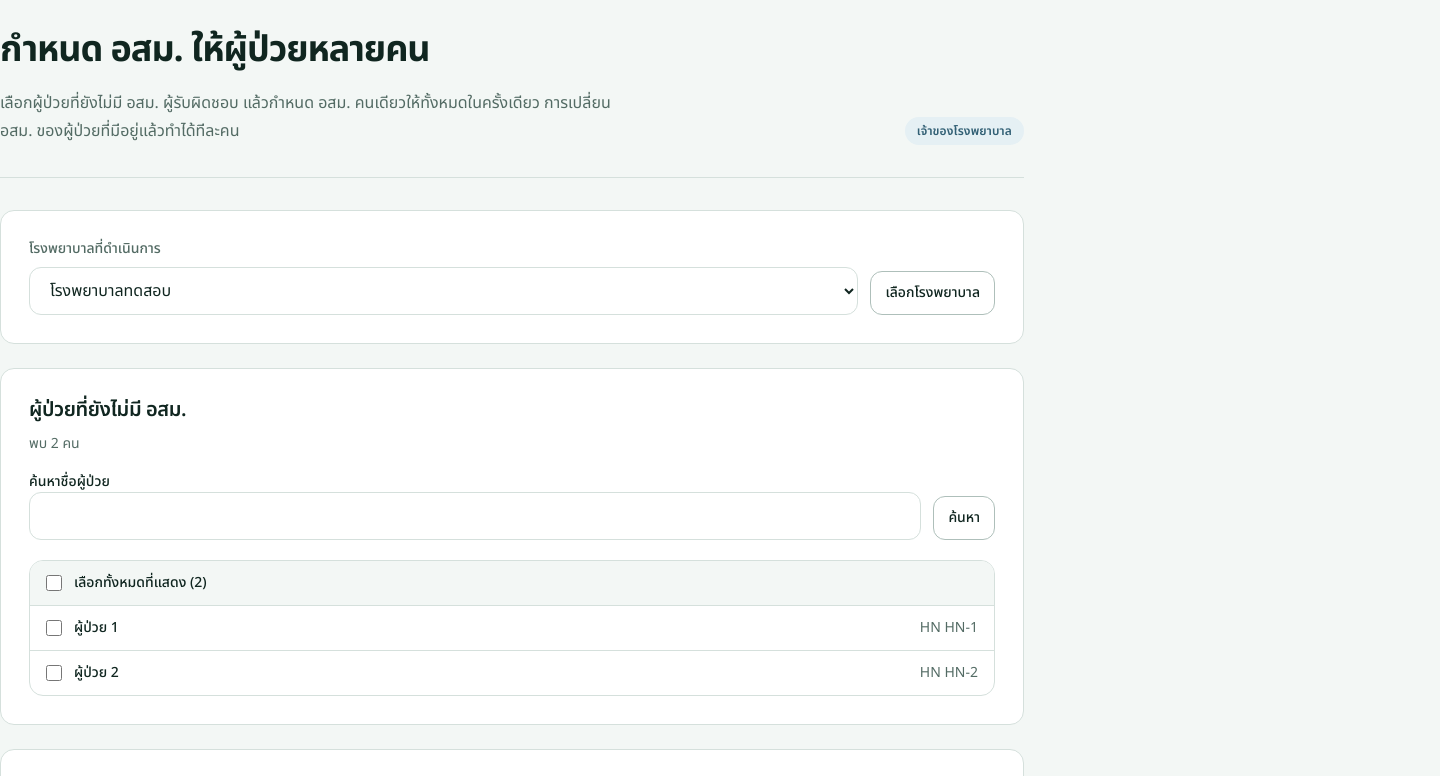
Test: bulk OSM assignment feedback › gives no new success Toast for a confirmed REPLAYED result and explains it inline
Click the checkbox labelled "ผู้ป่วย 1 HN HN-1" at [54, 628], box [46, 620, 62, 636]
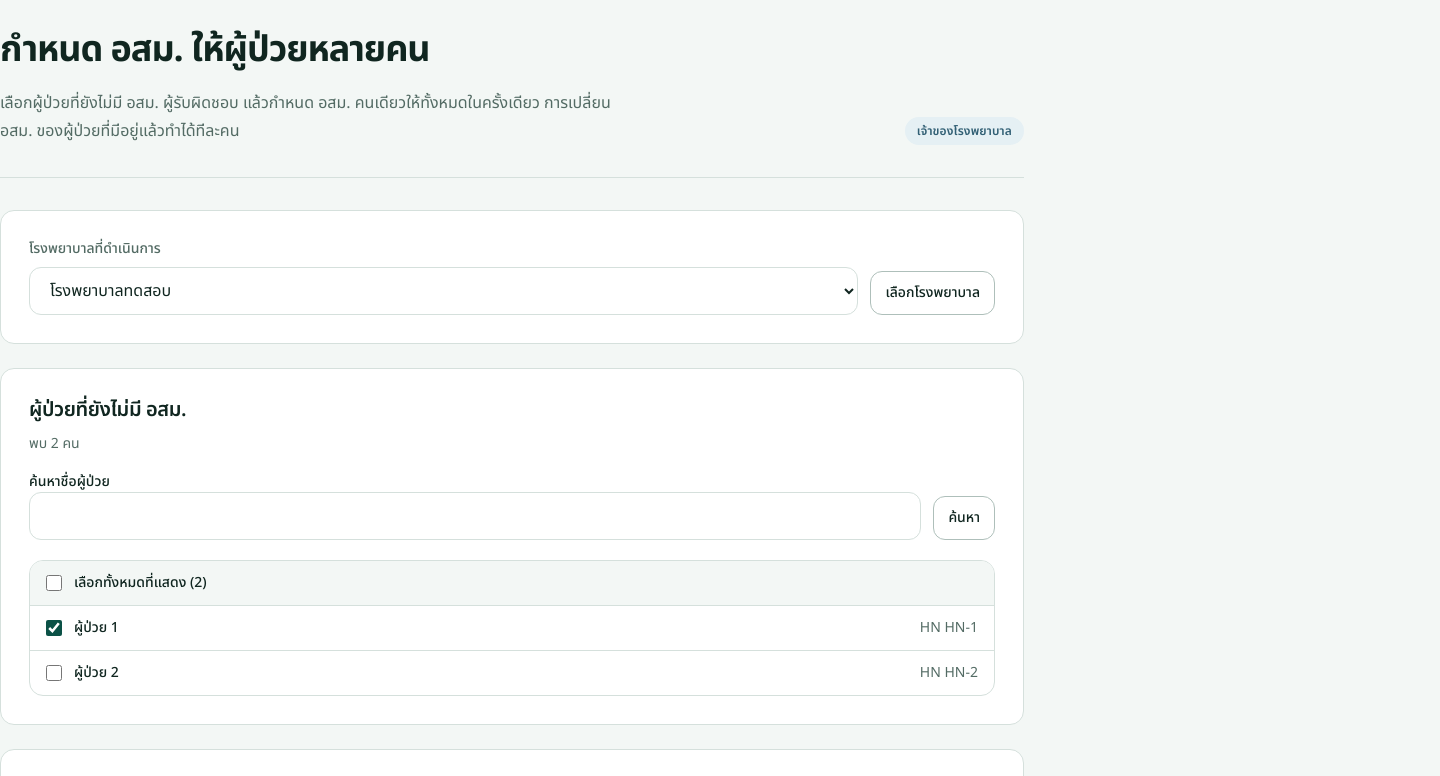
Click the checkbox labelled "ผู้ป่วย 2 HN HN-2" at [54, 673], box [46, 665, 62, 681]
(page scrolled)
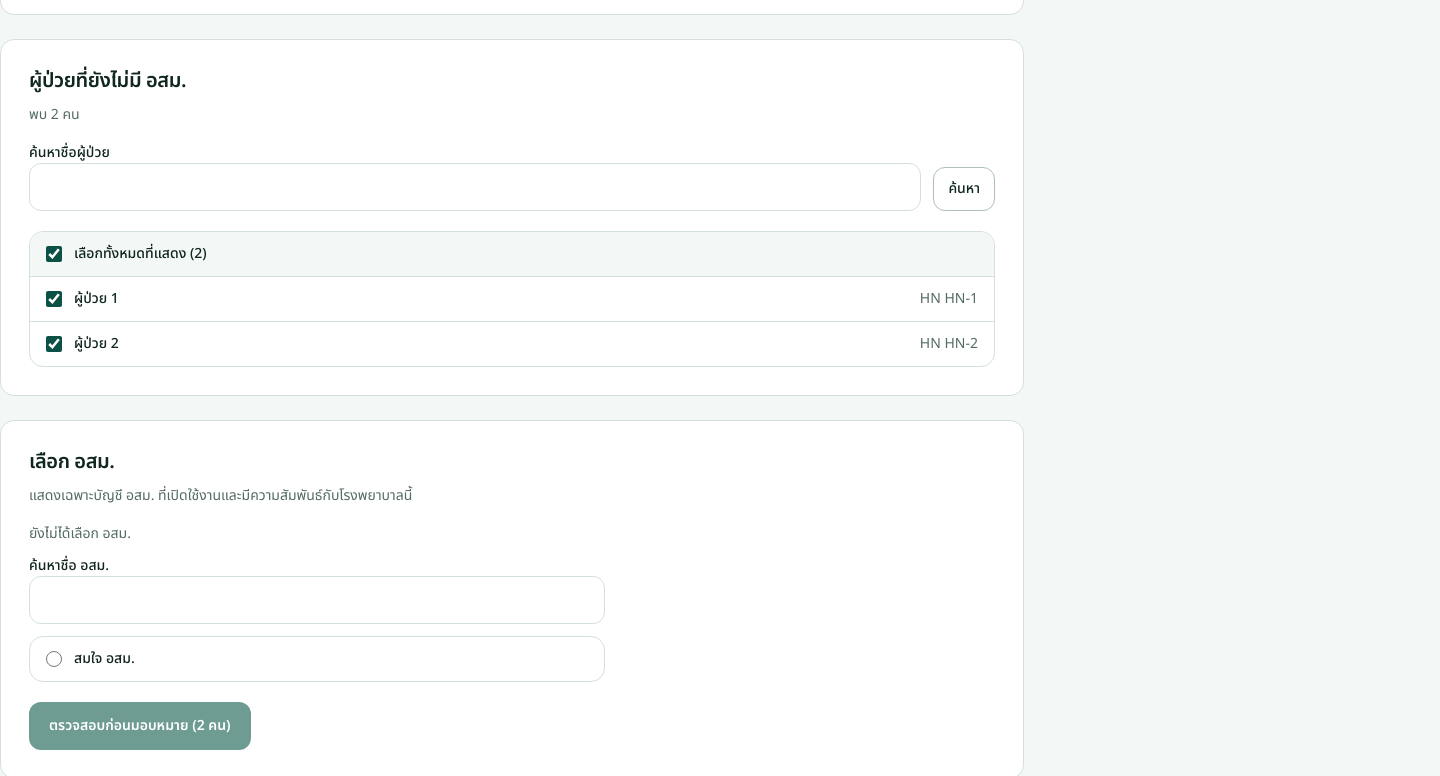
Click the radio button named "osm-candidate" at [54, 659], box [46, 651, 62, 667]
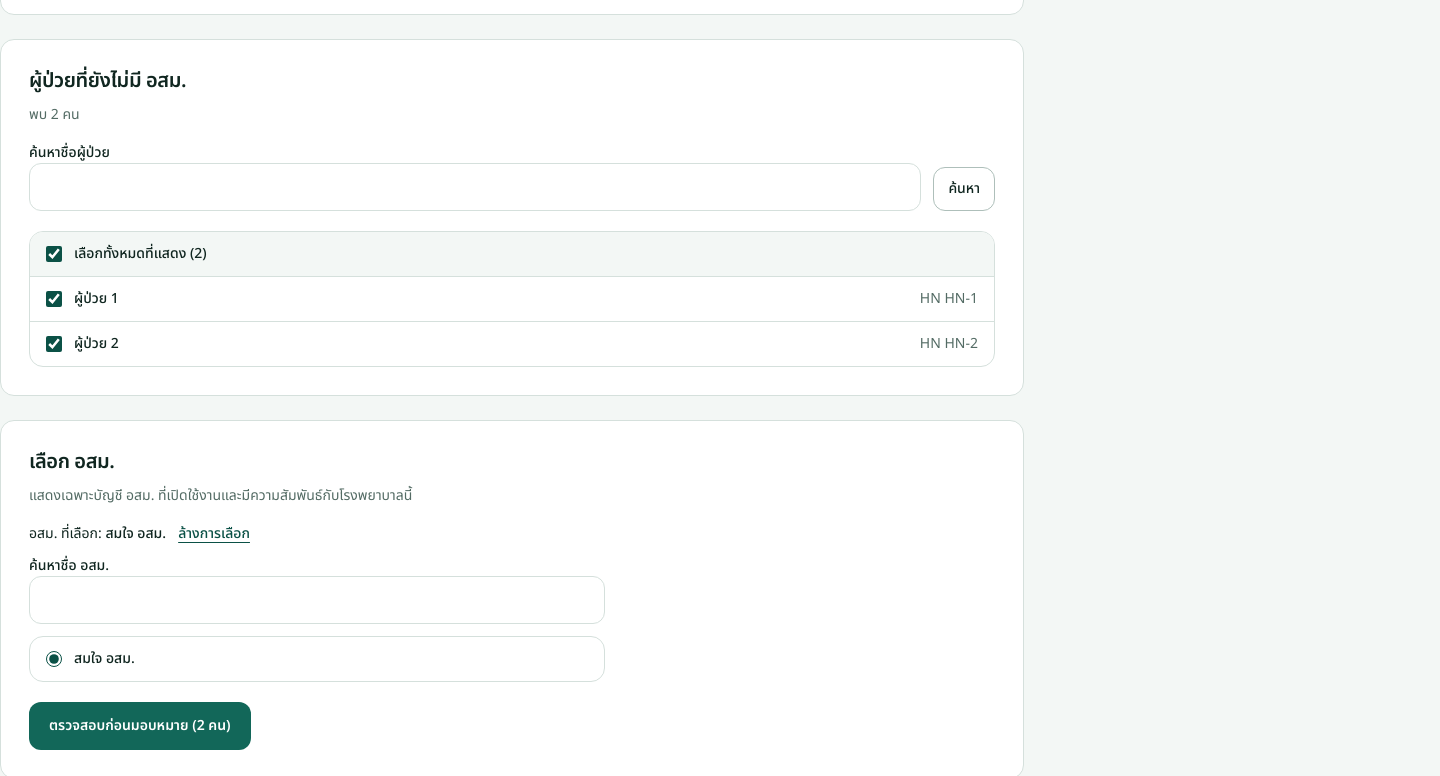
Click the button "ตรวจสอบก่อนมอบหมาย (2 คน)" at [140, 726], box [29, 702, 251, 750]
(page scrolled)
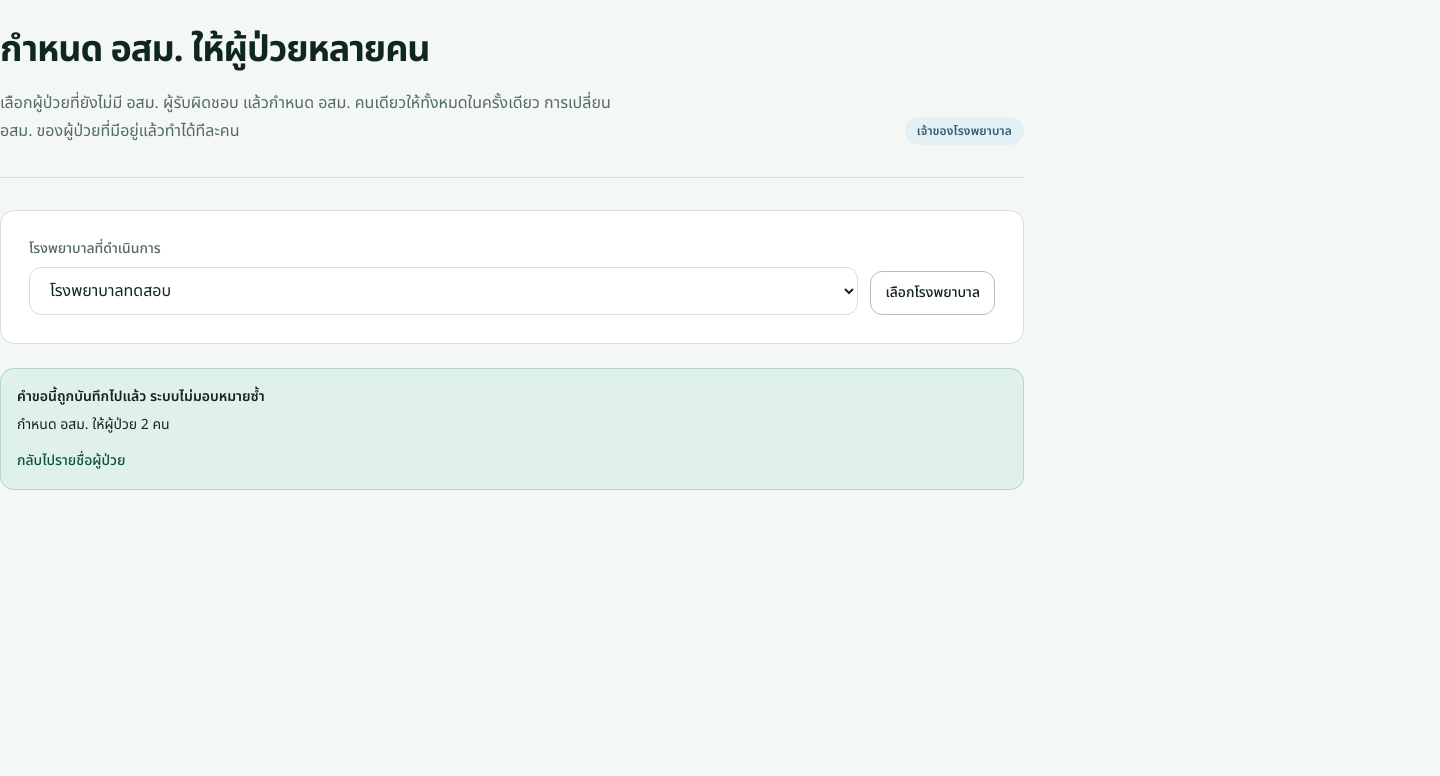
Now the text "คำขอนี้ถูกบันทึกไปแล้ว ระบบไม่มอบหมายซ้ำ" is shown, box [17, 386, 265, 407]
